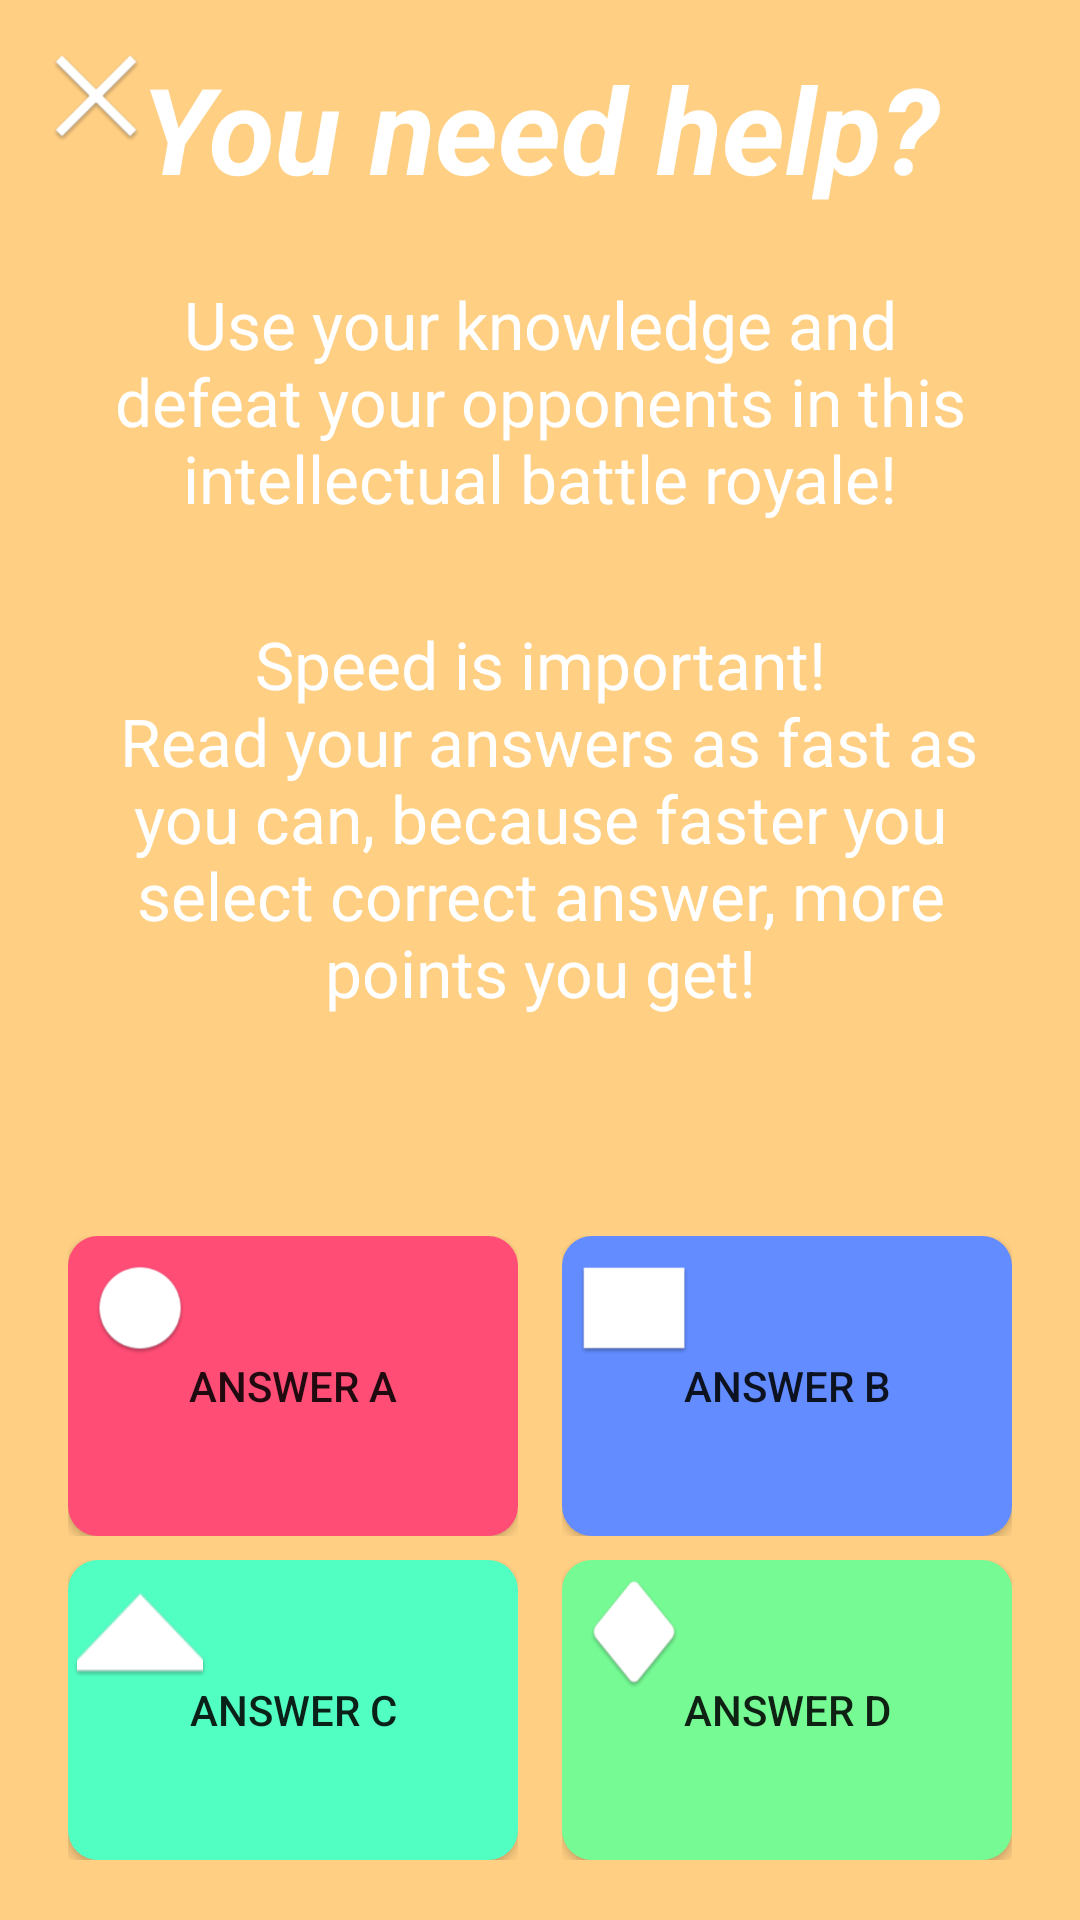

Where to tap for icons on this 1080w x 1920h app screen, as (x,y):
circle: (140,1308)
diamond: (634,1632)
exit: (96,96)
square: (634,1308)
triangle: (140,1632)
